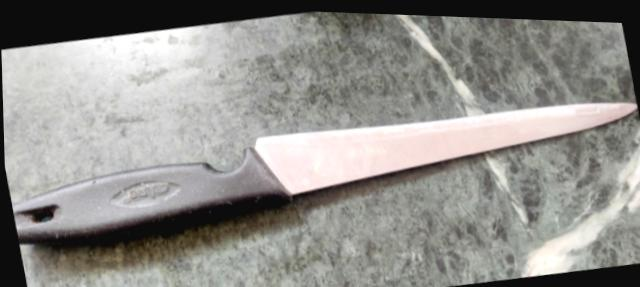Knife: (12, 103, 637, 245)
